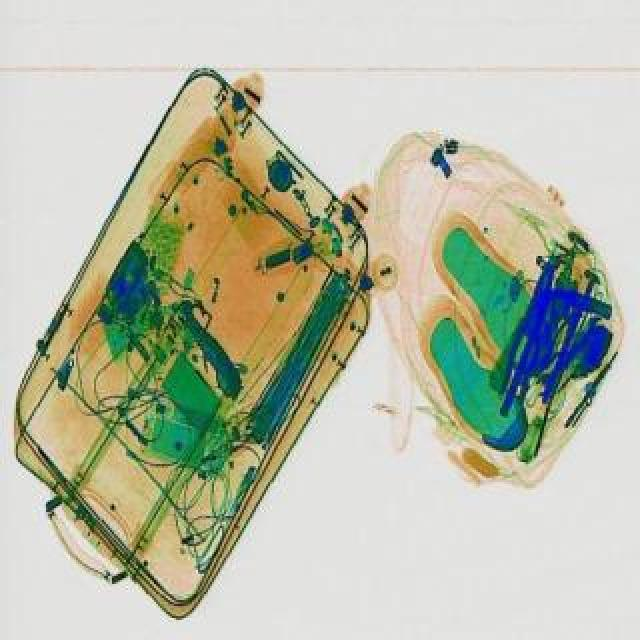wrench: (486, 262, 562, 418)
